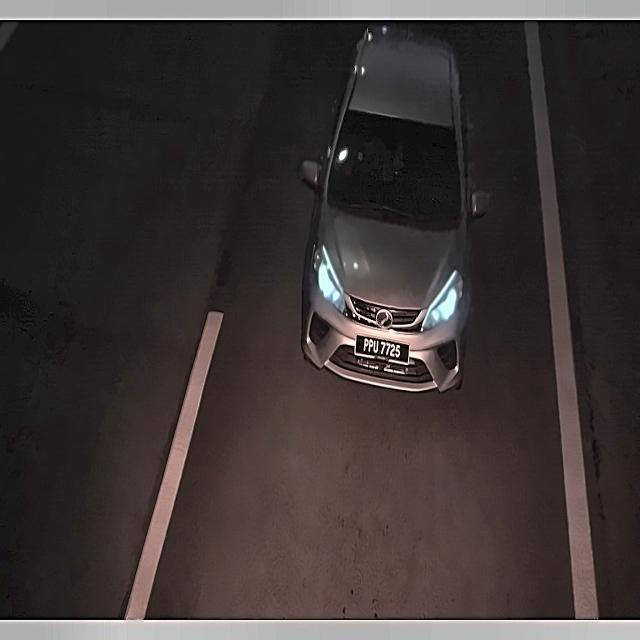car: (352, 328, 415, 370)
